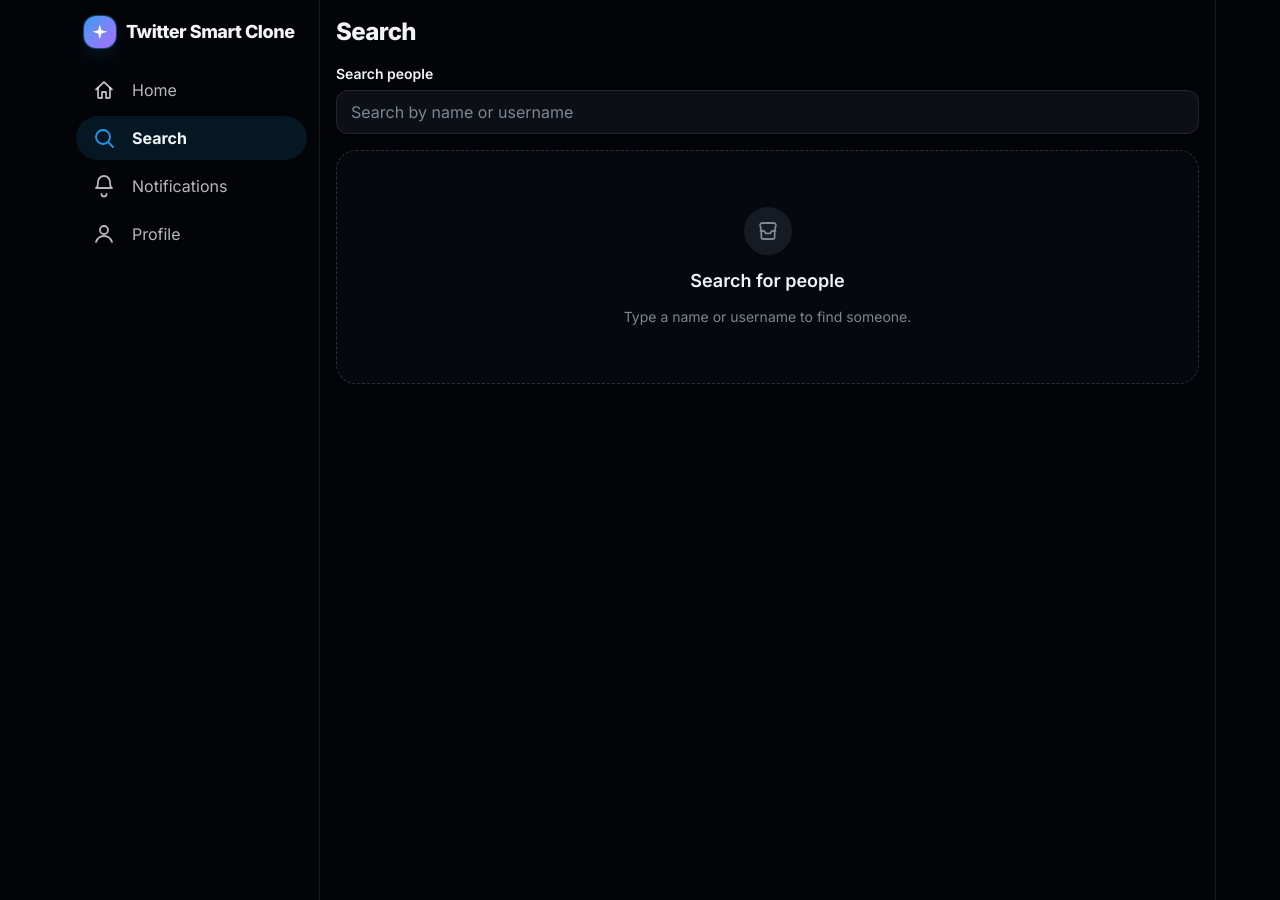
Test: Search › paginates results with a Load more button
expect the heading "Search" is shown: met, box [336,17,416,46]
Type "page" into the field labelled "Search people".
click(768, 112); type("page")  # box [336,90,1199,134]
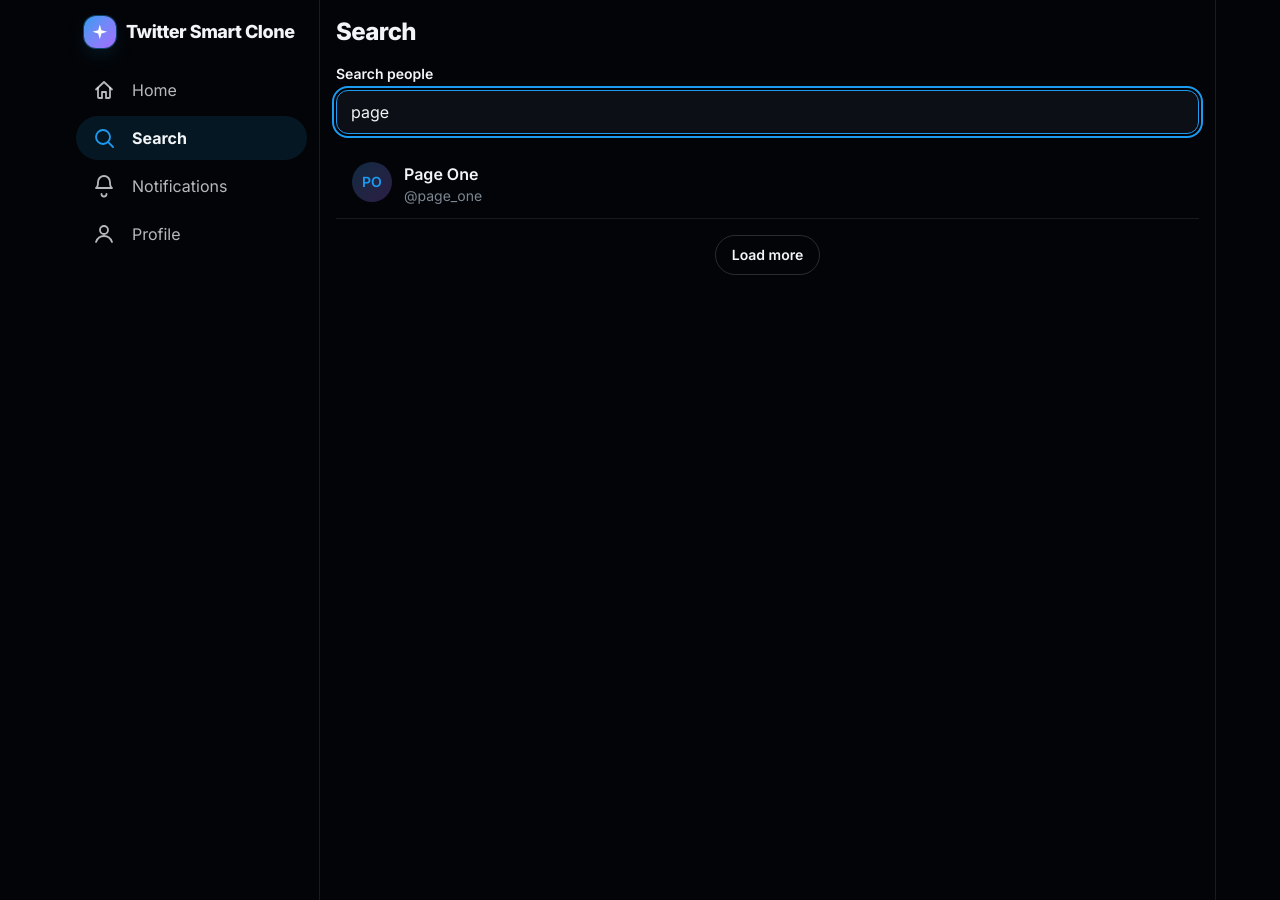
expect the text "Page Two" is not shown: met
expect the text "Page One" is shown: met, box [404,164,478,184]
Click the button "Load more".
click(767, 255)  # box [715,235,820,275]
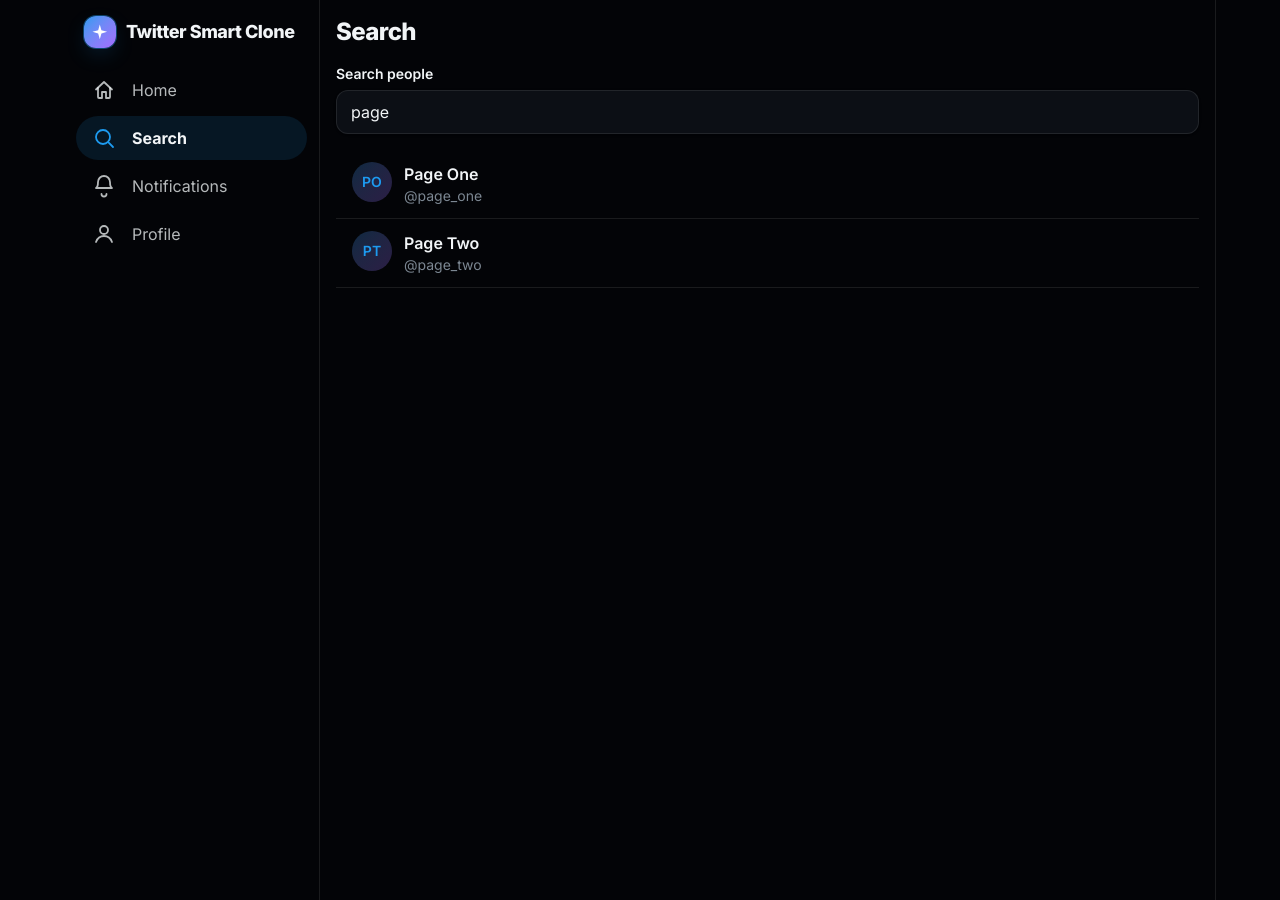
expect the text "Page One" is shown: met, box [404,164,478,184]
expect the text "Page Two" is shown: met, box [404,233,479,253]
expect the button "Load more" is gone: met
